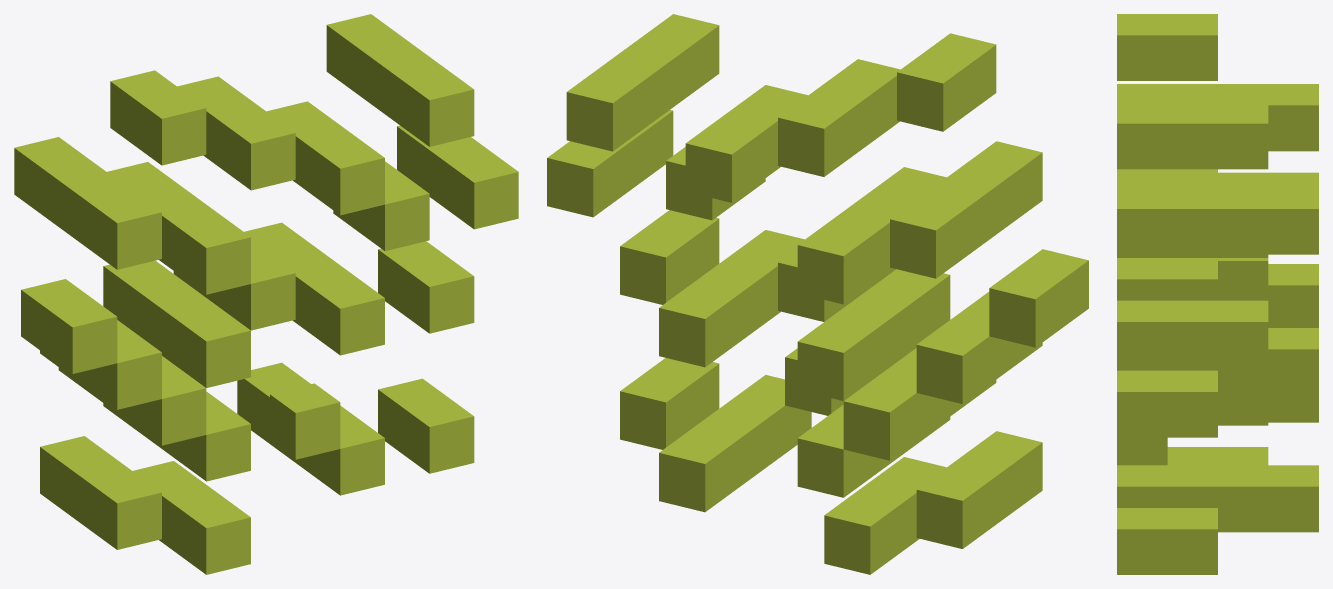
Rendered from GrassLayer.fbx.
The picture shows the model from 3 angles, left to right: view 1: azimuth 30°, elevation 25°; view 2: azimuth 150°, elevation 25°; view 3: azimuth 270°, elevation 25°; orthographic projection. The views are drawn at different scales.
Parts seen in each view (by area): view 1: Cube.001; view 2: Cube.001; view 3: Cube.001.
Part boxes in pixels (left/top/right/bottom): Cube.001: left=14, top=14, right=518, bottom=574; Cube.001: left=547, top=14, right=1088, bottom=574; Cube.001: left=1117, top=14, right=1318, bottom=574.
Size of the model in its own units: 1 by 0.4 by 1.
